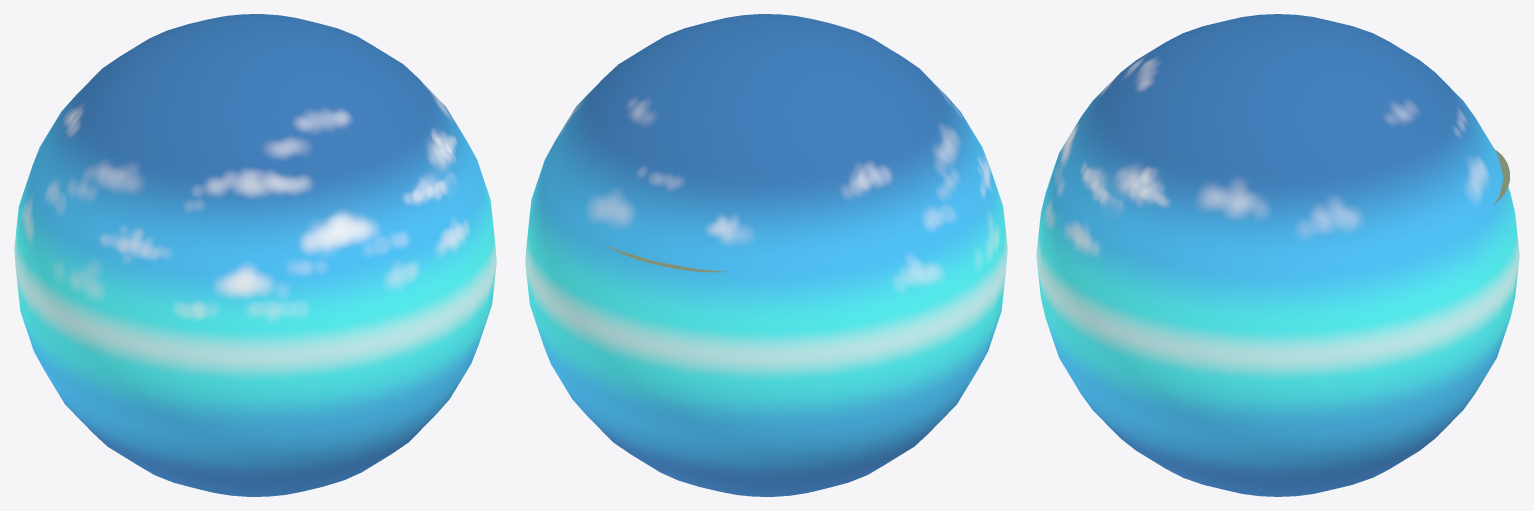
File: oracle-park.glb
3 renders of one model, left to right at view 1: azimuth 30°, elevation 25°; view 2: azimuth 150°, elevation 25°; view 3: azimuth 270°, elevation 25°, orthographic.
Visible parts, largest first — view 1: Skybox; view 2: Skybox; view 3: Skybox.
Part boxes in pixels (x1,y1,x2,y2): Skybox: [14, 14, 496, 496]; Skybox: [525, 14, 1007, 496]; Skybox: [1036, 14, 1519, 496].
Size of the model in its own units: 413 by 413 by 413.
Materials: 19 (10 with a texture image).
